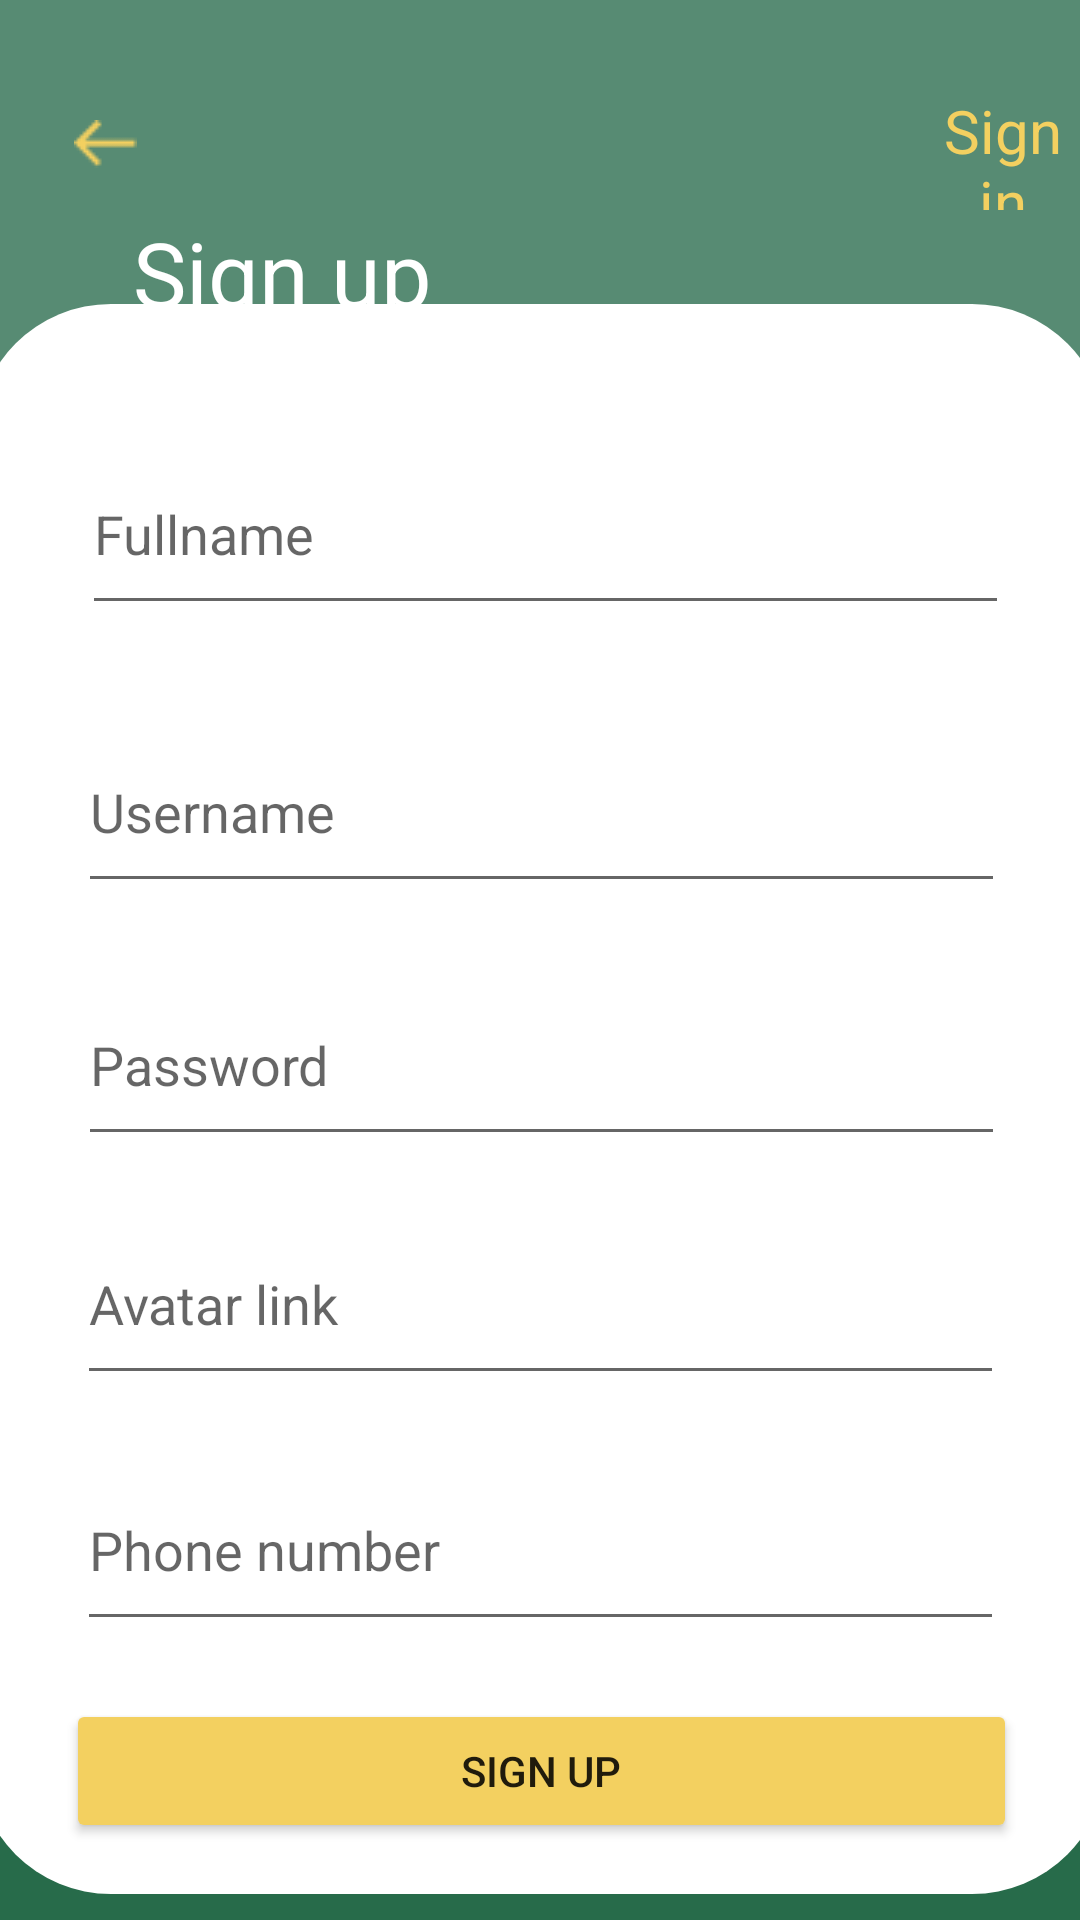

Icon bounding boxes for this 1080×1920 phone screenshot, format (x1, y1, x2, y2):
arrowleft: (74, 120, 137, 166)
